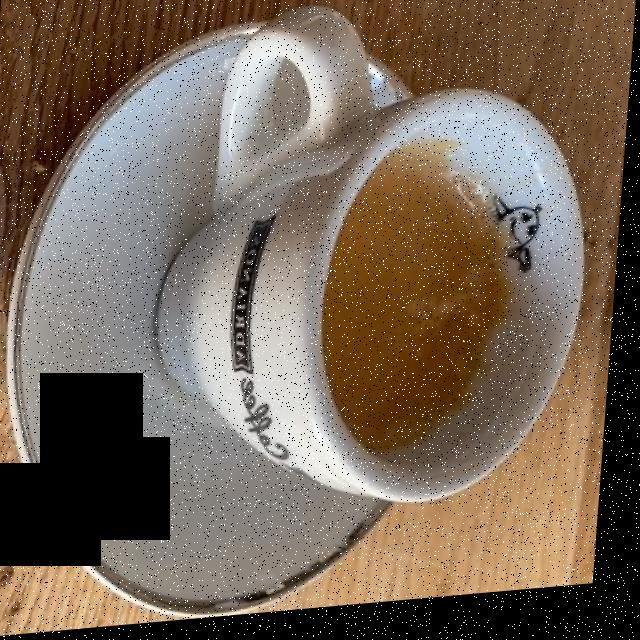ristretto-with-caffeine: (333, 153, 514, 455)
